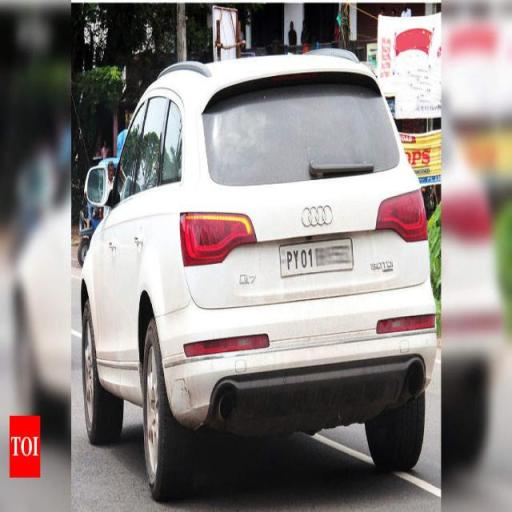number plate: (278, 238, 358, 273)
